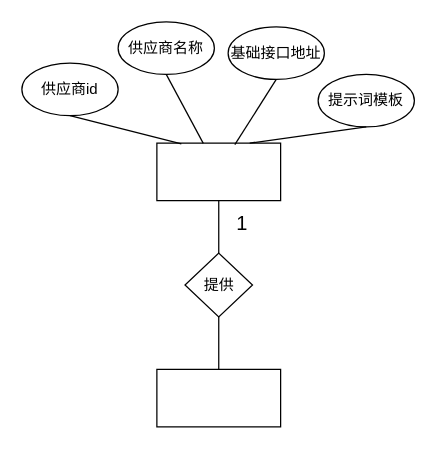
This 436x449 diagram has some shape labels left out. Here are the shapes that lost their labels. From the top down, the centre of each, then its label:
At point (218, 171): "模型供应商".
At point (218, 397): "模型".
